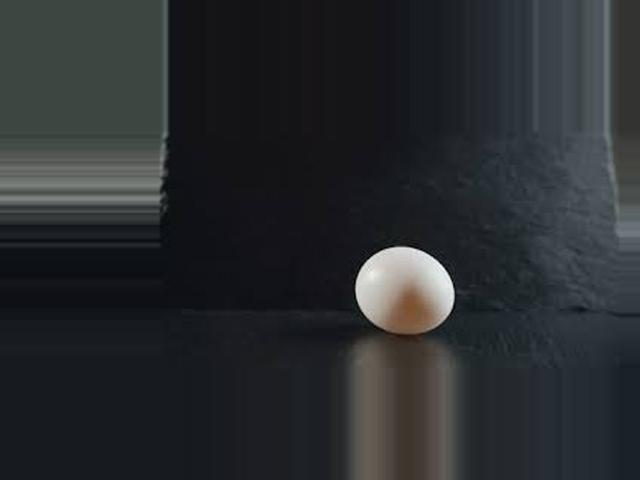egg: (356, 244, 455, 334)
